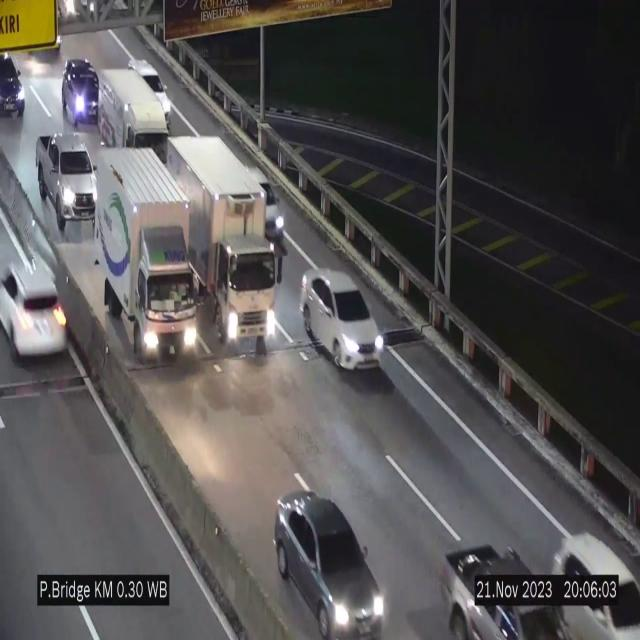Car: (275, 493, 386, 638), (546, 511, 640, 640), (0, 244, 72, 369), (300, 270, 386, 368), (34, 128, 100, 236), (248, 161, 286, 247), (61, 59, 106, 124), (128, 58, 170, 118), (0, 51, 35, 122)
Truck: (167, 138, 279, 357), (94, 146, 198, 363), (429, 536, 570, 640), (97, 68, 171, 164)
